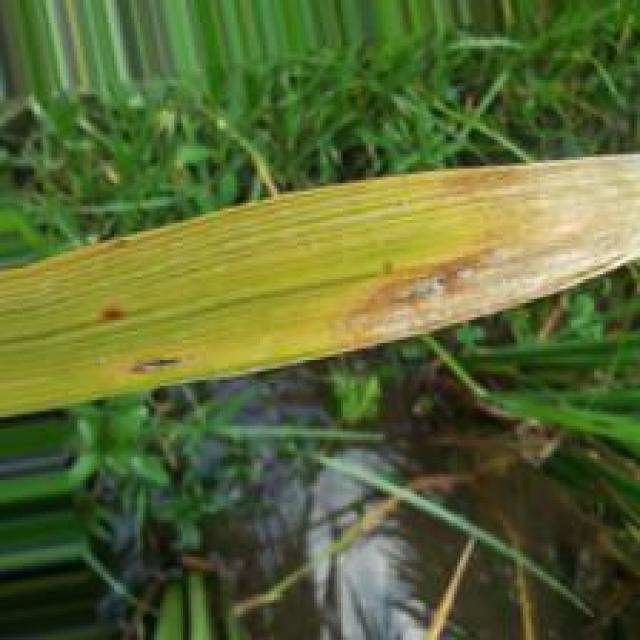Rice False Smut: (340, 153, 640, 350), (128, 351, 188, 379), (99, 302, 124, 327)
